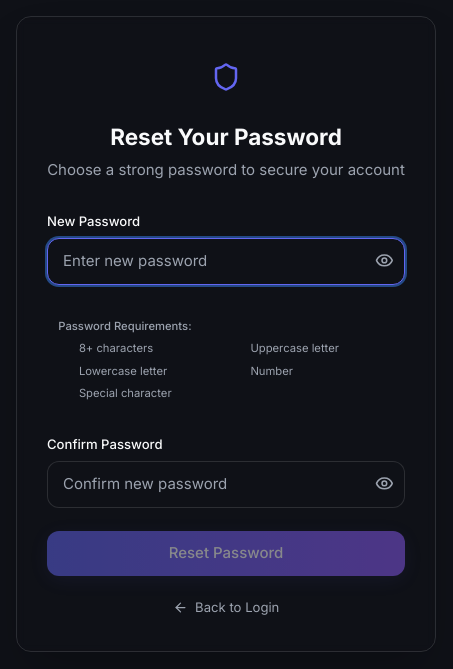
ResetPasswordPage › shows success state after successful password reset
The width and height of the screenshot is (453, 669).
In the password field labelled "New Password": (226, 261) [47,238,405,285], type "StrongPass123!"
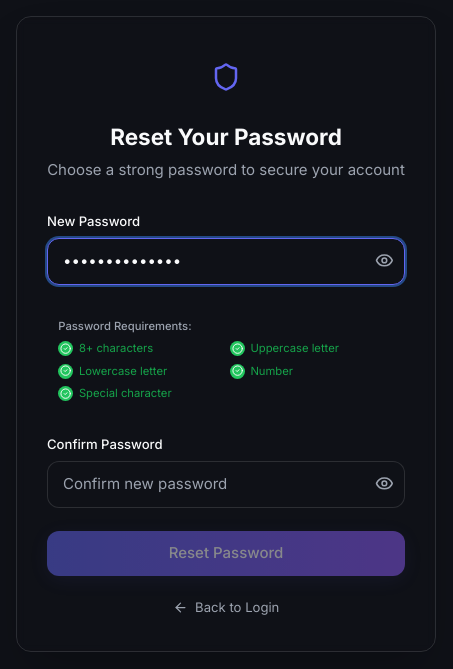
In the password field labelled "Confirm Password": (226, 485) [47,461,405,508], type "StrongPass123!"
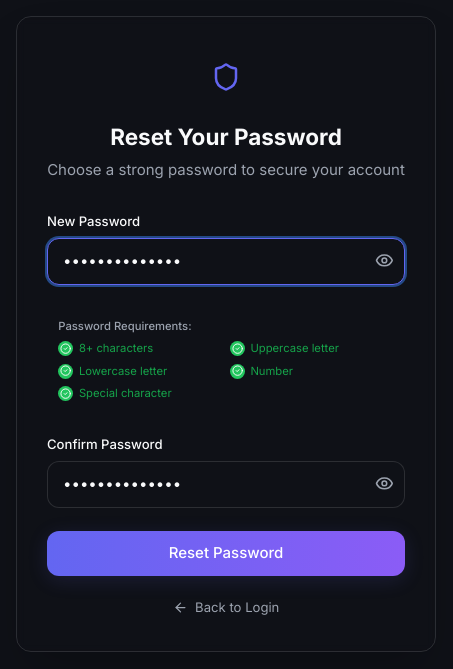
Click the button "Reset Password": (226, 553) [47,531,405,576]
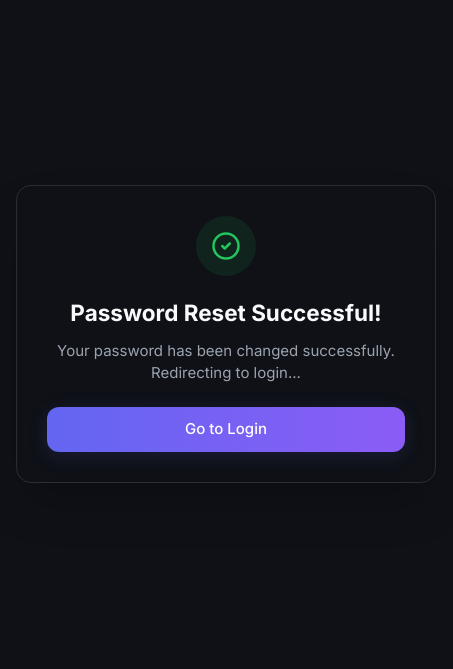
Expected: the heading "Password Reset Successful!" is shown, [47,298,405,328]
Expected: the text "Your password has been changed successfully. Redirecting to login..." is shown, [47,340,405,385]
Expected: the button "Go to Login" is shown, [47,407,405,452]
